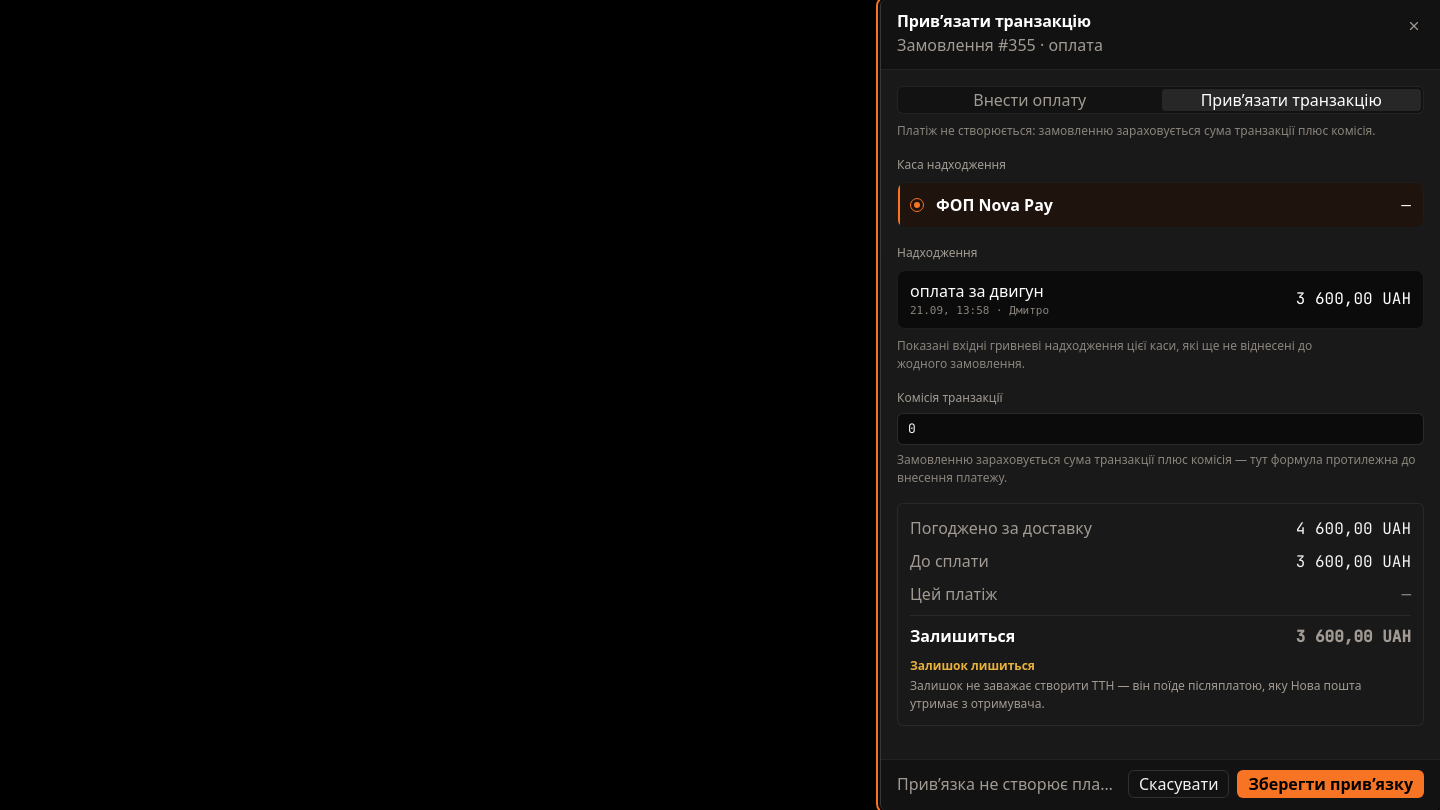
Test case: adds the fee to a linked receipt instead, and says so
The width and height of the screenshot is (1440, 810).
Click the button "оплата за двигун 21.09, 13:58 · Дмитро 3 600,00 UAH" at {"x": 977, "y": 291}, box [897,270,1424,329]
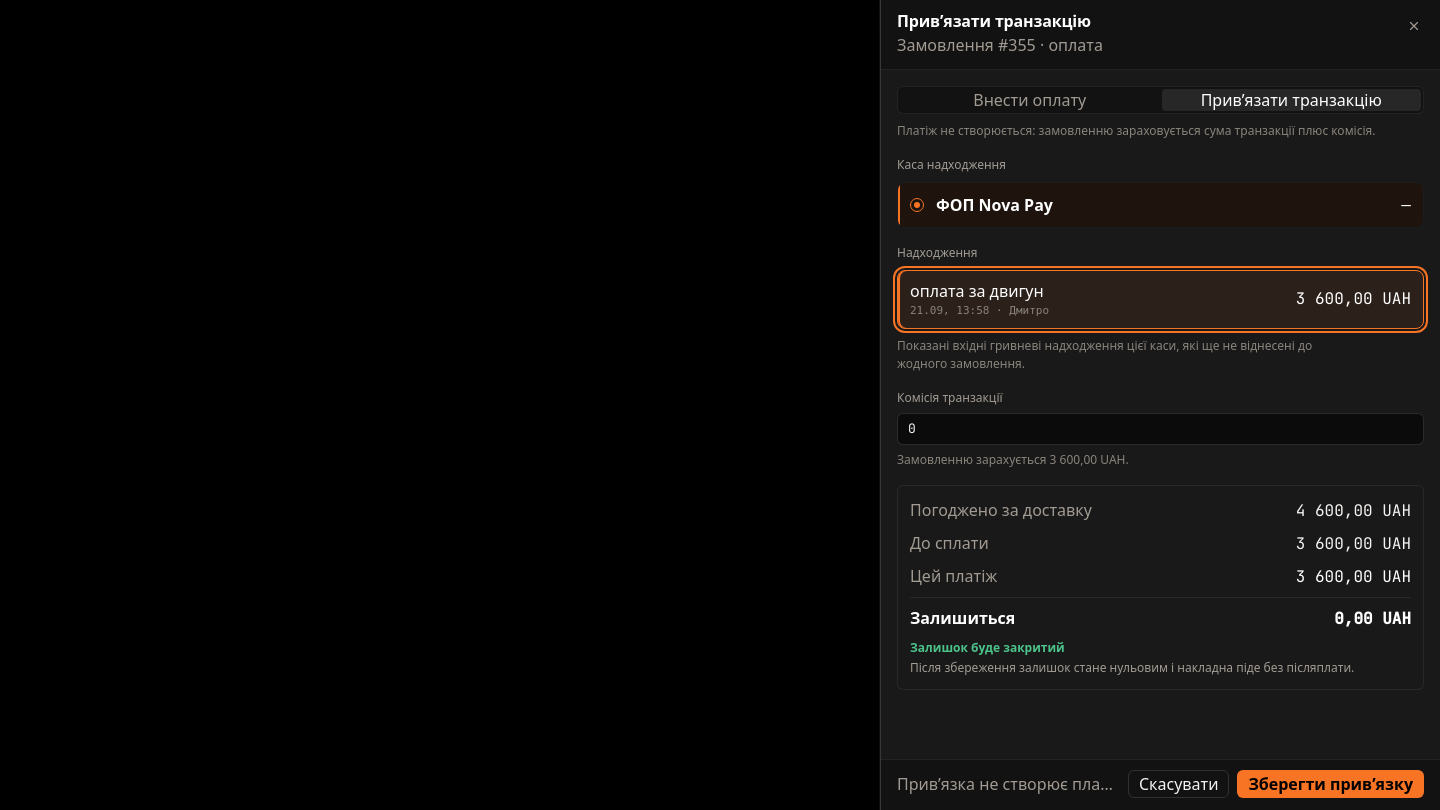
Replace the text in the field labelled "Комісія транзакції" with "12" at {"x": 1160, "y": 429}, box [897,413,1424,445]
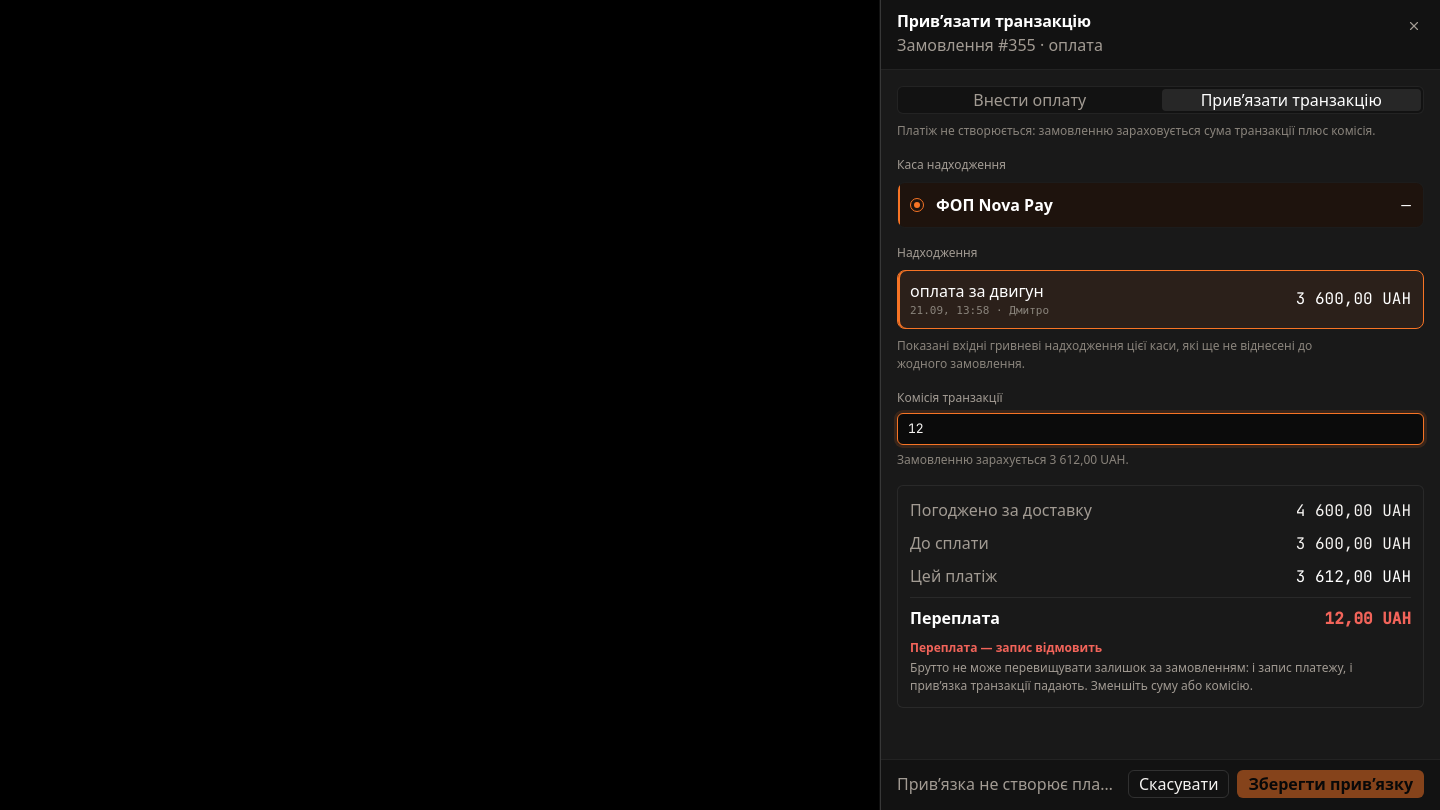
Now the text "Переплата — запис відмовить" is shown, box [910,639,1102,656]
Now the button "Зберегти прив’язку" is disabled, box [1238,770,1424,798]
